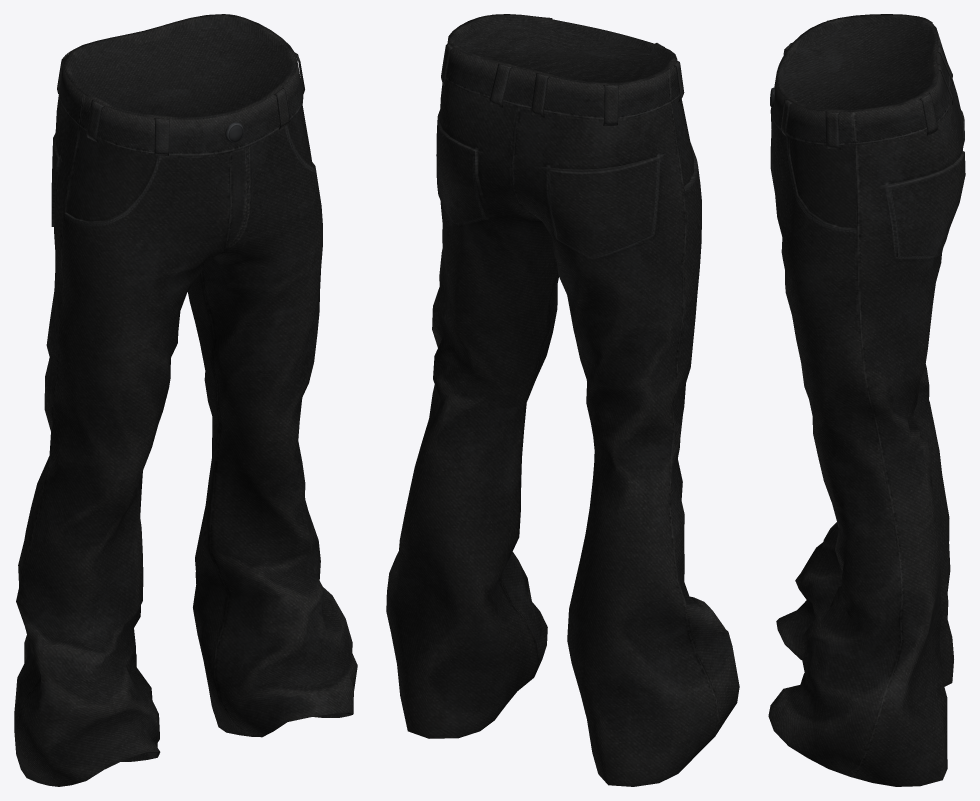
3 views of the same model, side by side, from view 1: azimuth 30°, elevation 25°; view 2: azimuth 150°, elevation 25°; view 3: azimuth 270°, elevation 25° (orthographic). The views are drawn at different scales.
Visible parts, largest first — view 1: hash_4C45FFAC.model; view 2: hash_4C45FFAC.model; view 3: hash_4C45FFAC.model.
Boxes of the visible parts, x1=… form: hash_4C45FFAC.model: x1=14, y1=14, x2=357, y2=786; hash_4C45FFAC.model: x1=386, y1=14, x2=739, y2=786; hash_4C45FFAC.model: x1=768, y1=14, x2=965, y2=786.
Size of the model in its own units: 0.5282 by 1.08 by 0.2874.
